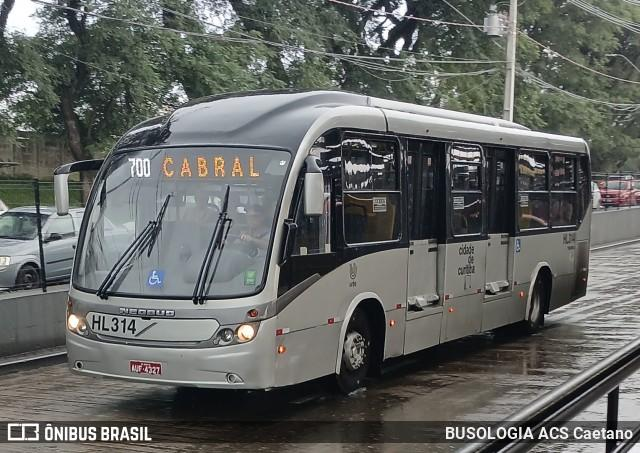CABRAL: (158, 151, 264, 181)
